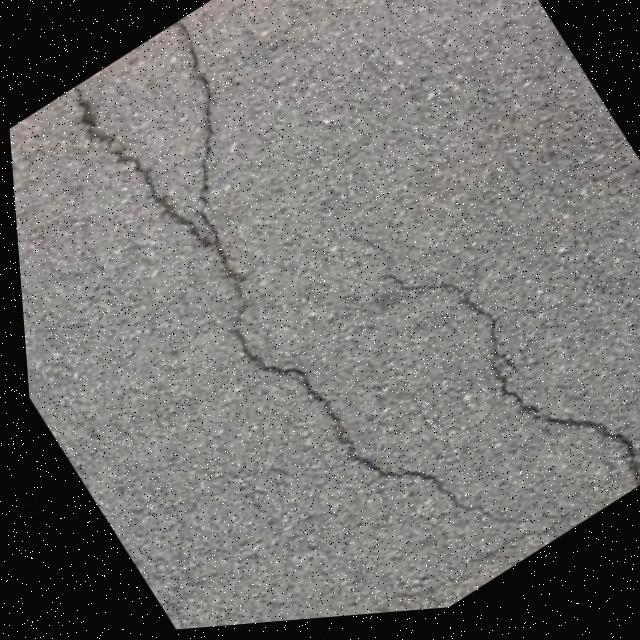crack: (76, 23, 466, 508), (78, 23, 327, 404), (442, 285, 639, 482)
